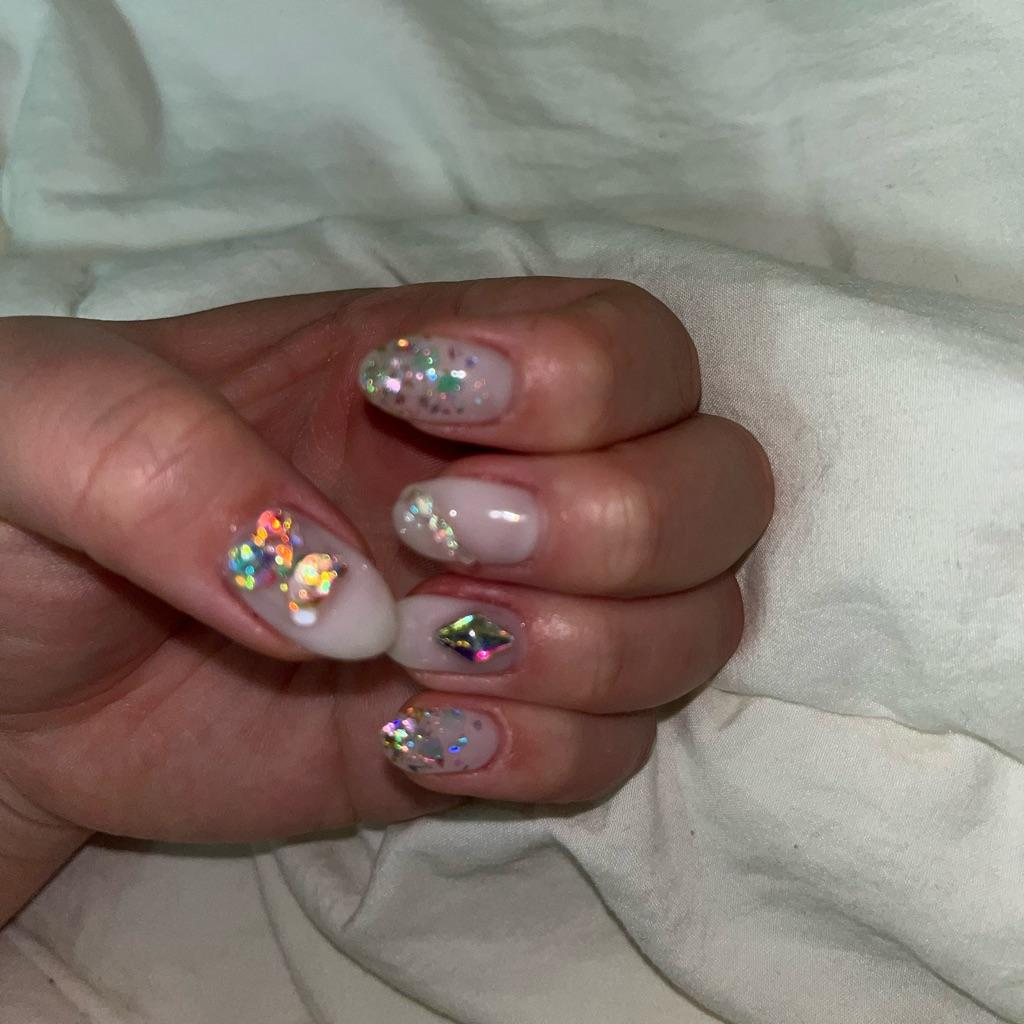nail: (221, 504, 397, 661), (356, 331, 515, 427), (391, 475, 545, 567), (379, 699, 505, 777), (435, 611, 514, 663)
